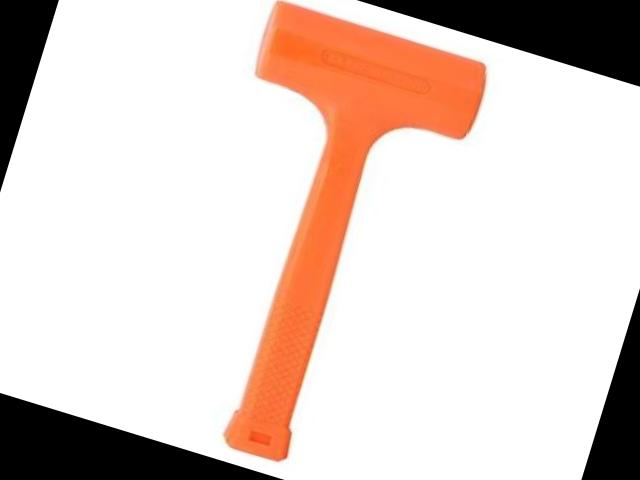hammer: (145, 0, 493, 480)
